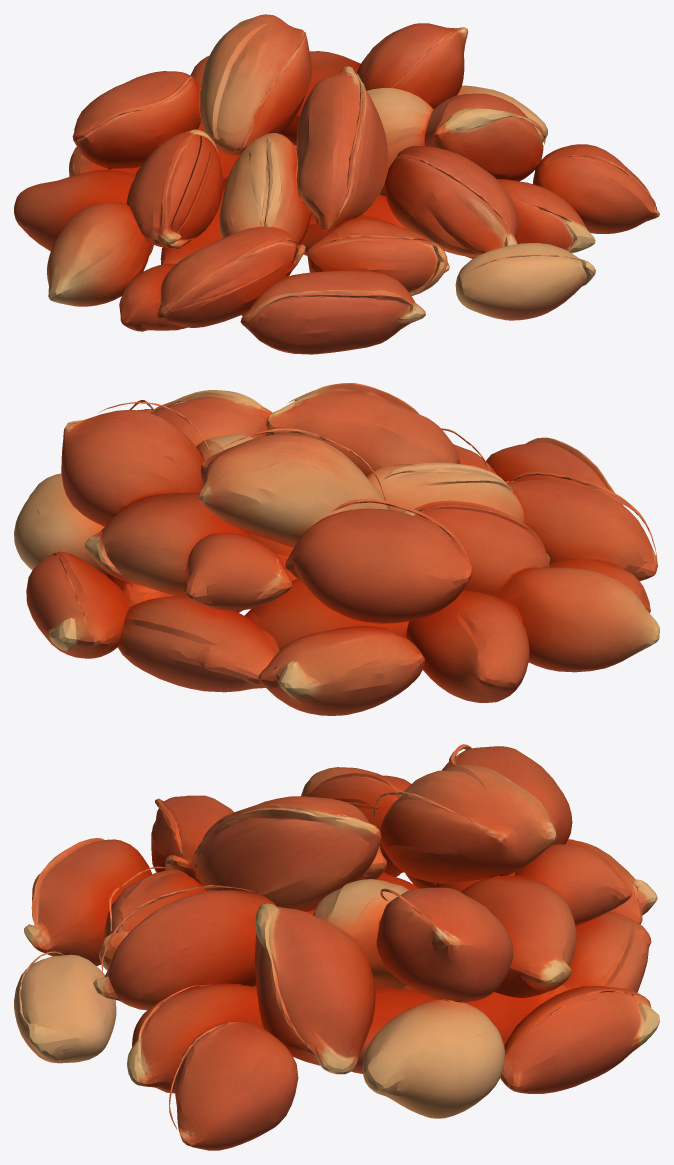
Rendered from lod_basic_pbr.fbx.
3 views of the same model, one above another, from view 1: azimuth 30°, elevation 25°; view 2: azimuth 150°, elevation 25°; view 3: azimuth 270°, elevation 25° (orthographic). The views are drawn at different scales.
Visible parts, largest first — view 1: model_LOD0; view 2: model_LOD0; view 3: model_LOD0.
Boxes of the visible parts, x1,y1,x2,y2 form: model_LOD0: [14, 14, 659, 354]; model_LOD0: [14, 383, 659, 715]; model_LOD0: [14, 744, 659, 1150].
Size of what is drawn, in the model's own units: 189 by 60.78 by 158.
Materials: 1 (1 with a texture image).
